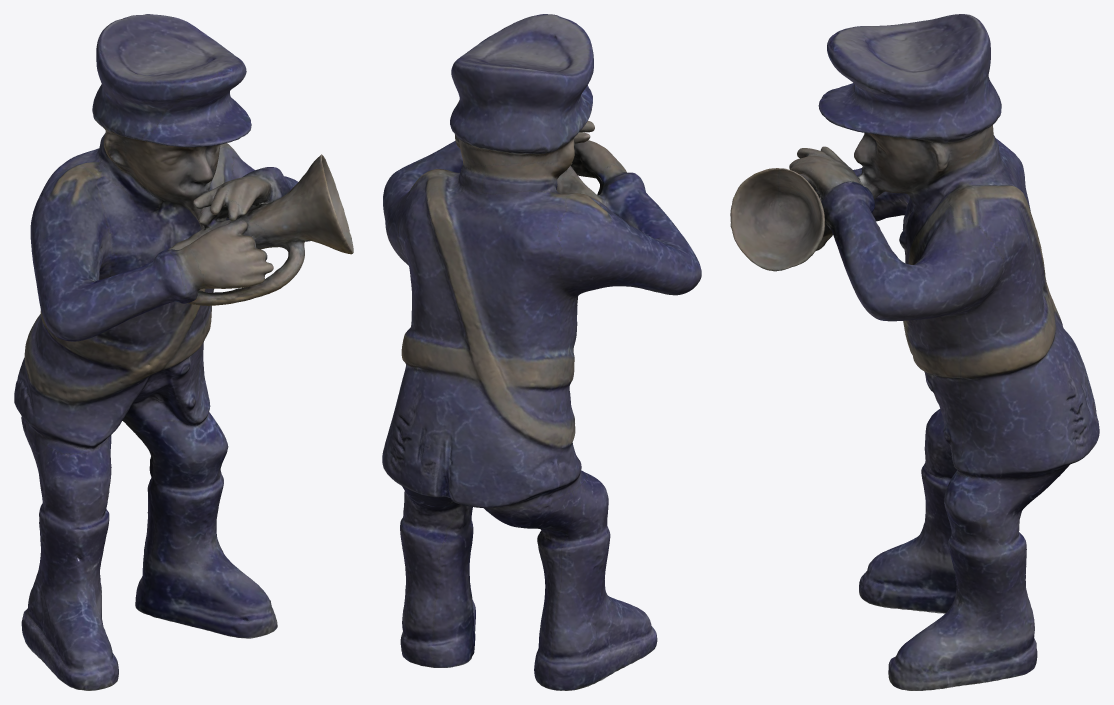
File: khanna-untitled-horn-player.glb
The picture shows the model from 3 angles, left to right: view 1: azimuth 30°, elevation 25°; view 2: azimuth 150°, elevation 25°; view 3: azimuth 270°, elevation 25°; orthographic projection. The views are drawn at different scales.
Visible parts, largest first — view 1: 11_Krishna_Khanna_For Final; view 2: 11_Krishna_Khanna_For Final; view 3: 11_Krishna_Khanna_For Final.
Boxes of the visible parts, x1,y1,x2,y2 form: 11_Krishna_Khanna_For Final: [14, 14, 353, 690]; 11_Krishna_Khanna_For Final: [382, 14, 701, 690]; 11_Krishna_Khanna_For Final: [730, 14, 1099, 690].
Size of the model in its own units: 0.2604 by 0.5 by 0.2747.
1 material, 1 textured.
